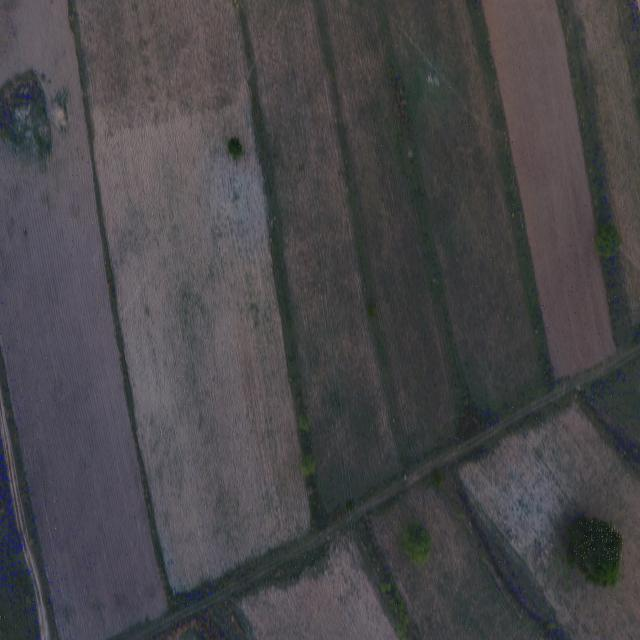boundaries: (67, 12, 350, 639), (372, 30, 503, 458), (308, 18, 424, 491)
